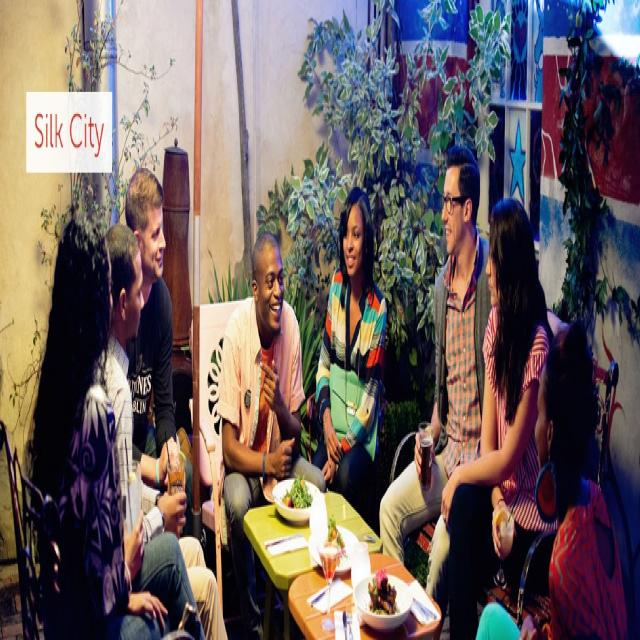body: (25, 210, 207, 640), (377, 139, 492, 640), (92, 220, 228, 640), (441, 193, 556, 640), (474, 312, 630, 640), (212, 225, 330, 638), (124, 165, 196, 543), (311, 184, 388, 518)
